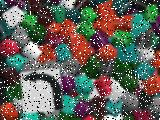Left: (20, 68, 64, 114)
